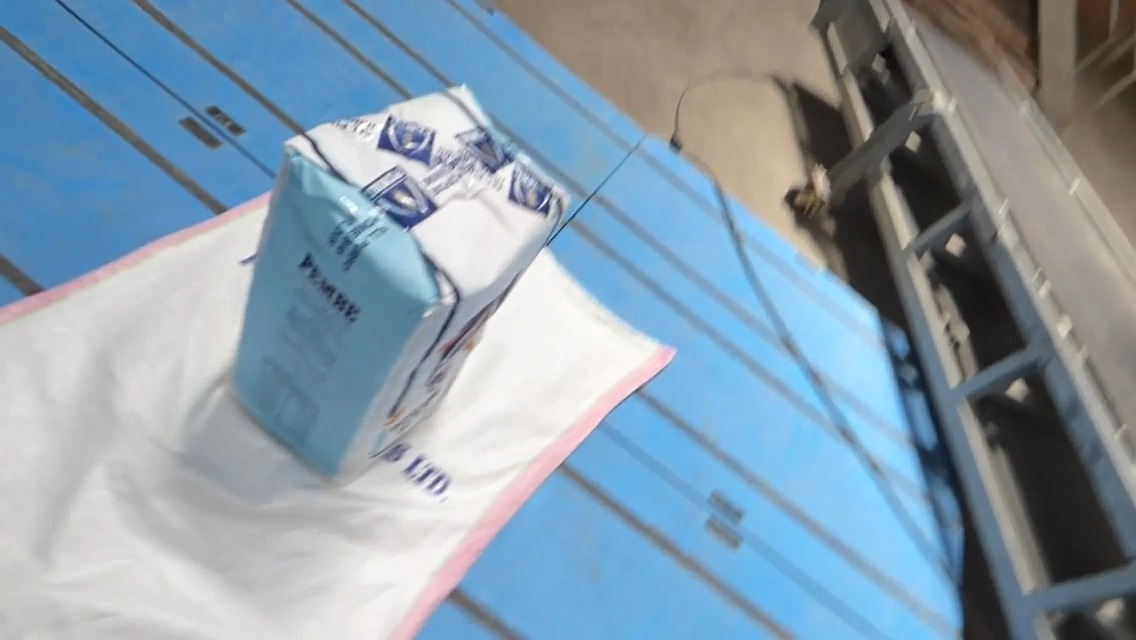wheat_flour_blue_label: (235, 84, 569, 477)
